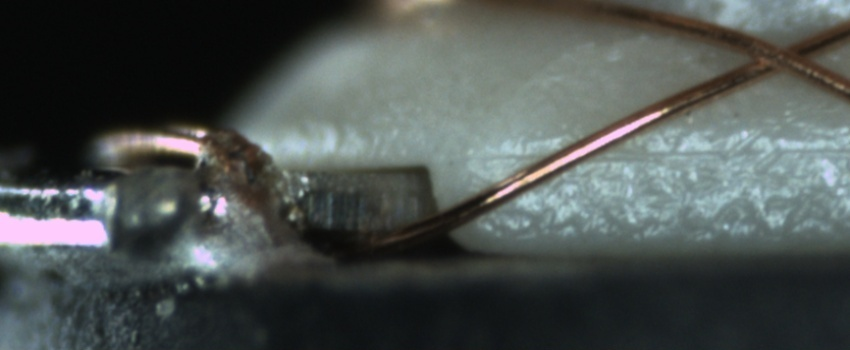CL: (734, 28, 830, 81)
DL: (473, 124, 848, 179)
TE: (73, 113, 268, 166)
